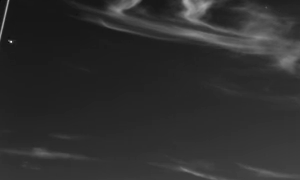Target: (9, 41, 12, 43)
